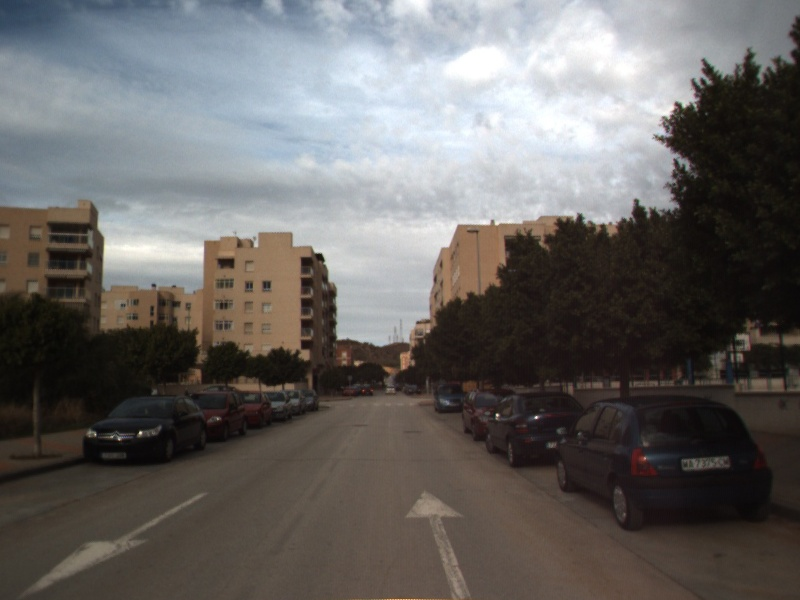STRAIGHT: (402, 487, 474, 600)
